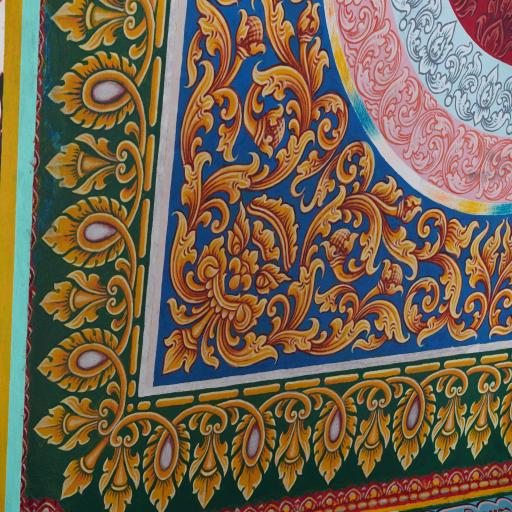la: (34, 44, 160, 142), (27, 186, 149, 276), (404, 0, 473, 98), (443, 41, 512, 138), (133, 405, 194, 512), (250, 184, 318, 270), (429, 112, 485, 213), (382, 380, 434, 487), (366, 64, 429, 148), (171, 56, 224, 149), (345, 18, 404, 100), (226, 405, 274, 504), (308, 390, 353, 493), (394, 96, 450, 172), (189, 0, 240, 79), (474, 131, 512, 211), (364, 295, 408, 363), (156, 322, 210, 375), (221, 141, 260, 213), (175, 148, 215, 218), (334, 0, 386, 48), (231, 323, 283, 371), (166, 210, 202, 276), (476, 0, 512, 63), (272, 316, 326, 356), (213, 120, 249, 177), (250, 53, 293, 100), (232, 6, 268, 62), (304, 40, 335, 101), (480, 220, 512, 279), (388, 220, 418, 281), (439, 253, 465, 321), (292, 0, 328, 48), (227, 203, 255, 263), (444, 210, 478, 258), (252, 261, 289, 301), (371, 169, 406, 211), (196, 329, 224, 379), (168, 288, 196, 337), (314, 282, 344, 324), (354, 222, 376, 279)
lua: (24, 256, 137, 342), (32, 120, 138, 202), (14, 324, 133, 388), (42, 0, 158, 60), (27, 386, 113, 454), (458, 368, 507, 478), (181, 404, 230, 507), (54, 423, 108, 509), (350, 383, 394, 488), (430, 378, 470, 482), (278, 387, 316, 494), (98, 428, 142, 512)
than: (26, 266, 130, 336)
